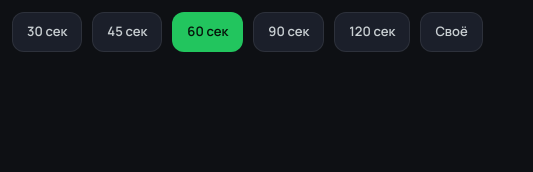
it: длительность раунда в форме › «Своё» открывает поле ввода
The width and height of the screenshot is (533, 172).
Click the button "Своё" at (452,32), box [420,12,483,52]
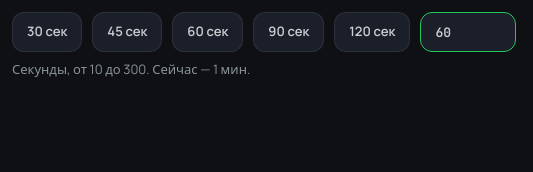
Expected: the number field named "Длительность раунда: своё время в секундах" is shown, [420,12,516,52]
